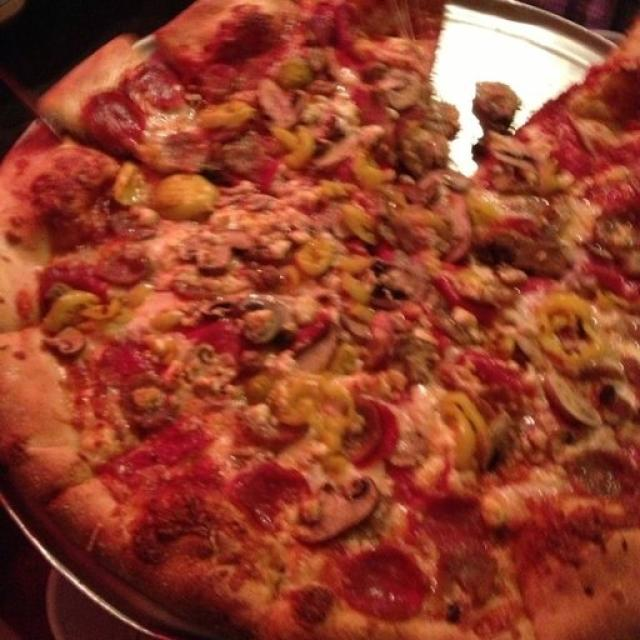Mushrooms: (480, 226, 565, 278), (301, 482, 377, 538), (485, 136, 555, 195), (540, 377, 600, 429), (368, 264, 412, 318), (386, 68, 424, 110), (240, 290, 296, 314), (47, 330, 86, 358)
Olives: (44, 292, 102, 324), (151, 180, 209, 210), (295, 240, 331, 276), (202, 104, 246, 128), (277, 56, 311, 85)
Pizza: (0, 0, 640, 640)
